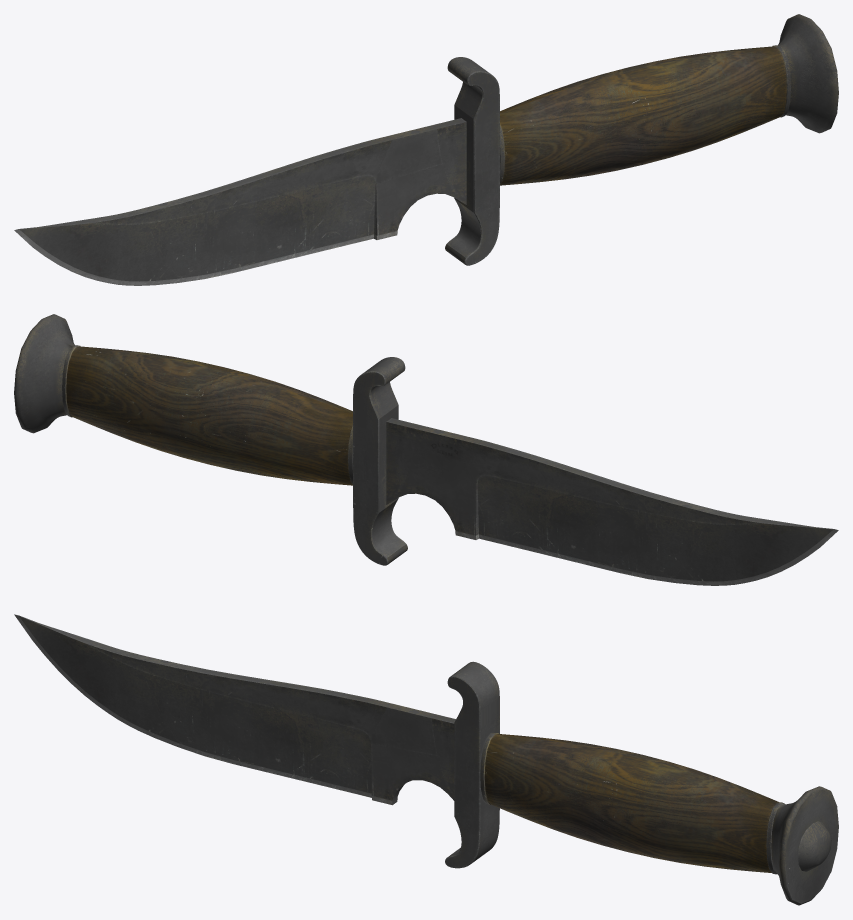
The model's file is knife_default_t__cs2.glb.
The picture shows the model from 3 angles, top to bottom: view 1: azimuth 30°, elevation 25°; view 2: azimuth 150°, elevation 25°; view 3: azimuth 330°, elevation 25°; orthographic projection.
Parts seen in each view (by area): view 1: body_legacy_weapon_knife_default_t; view 2: body_legacy_weapon_knife_default_t; view 3: body_legacy_weapon_knife_default_t.
Boxes of the visible parts, bbox=[...] form: body_legacy_weapon_knife_default_t: bbox=[14, 14, 838, 285]; body_legacy_weapon_knife_default_t: bbox=[14, 314, 838, 585]; body_legacy_weapon_knife_default_t: bbox=[14, 614, 838, 905].
Size of the model in its own units: 0.3383 by 0.0767 by 0.0403.
Materials: 1 (1 with a texture image).
